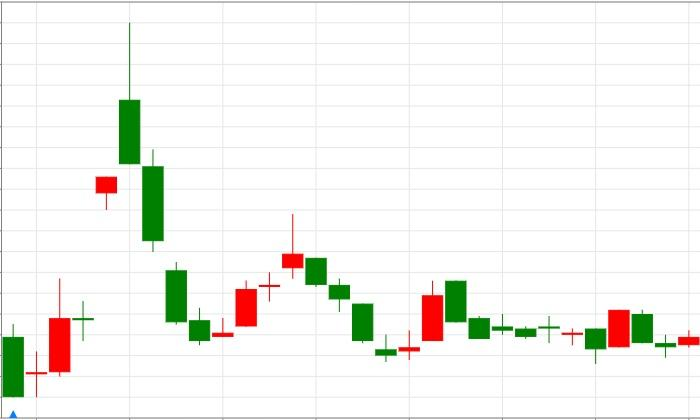three_black_crows_fall: (26, 22, 187, 398), (189, 213, 373, 345)
